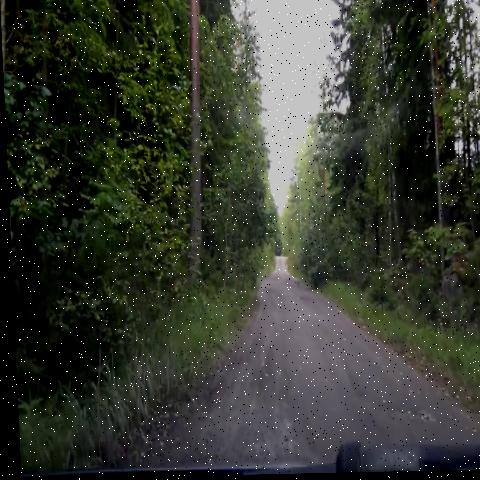pothole: (382, 406, 432, 438), (289, 284, 308, 316)
